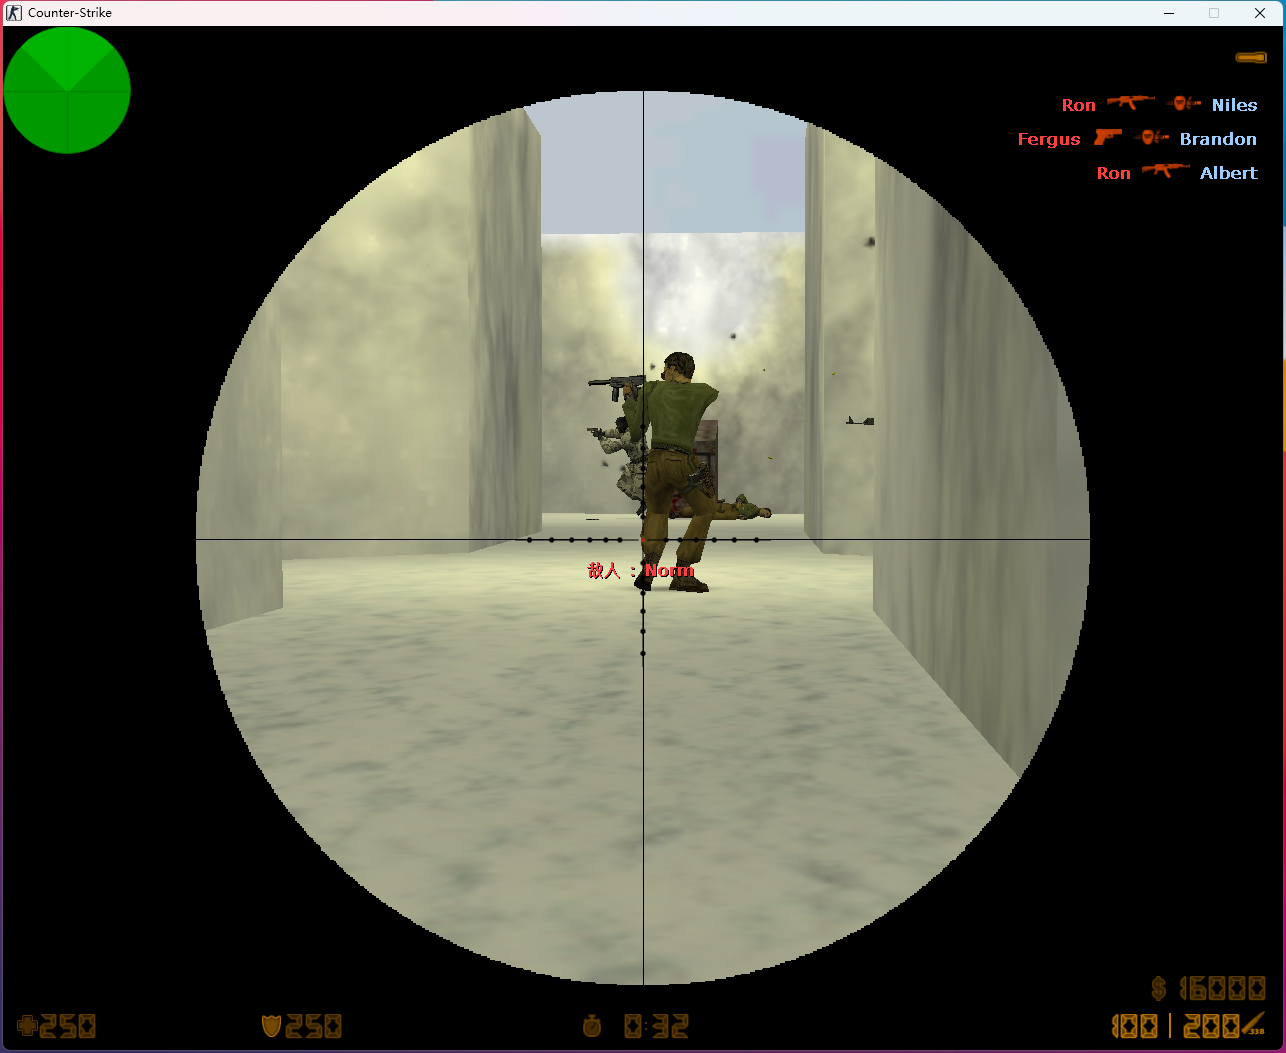T: (624, 351, 713, 594), (589, 414, 659, 516)
dead: (671, 491, 771, 522)
